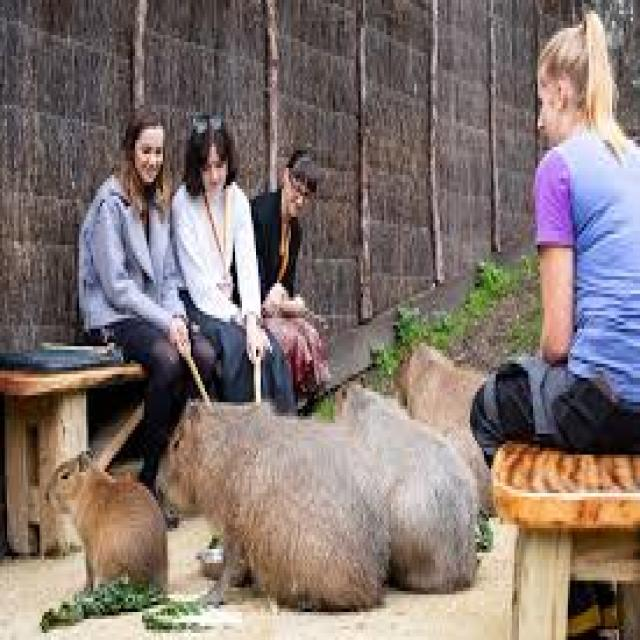capy: (158, 397, 390, 614), (335, 378, 477, 593), (43, 446, 168, 592), (394, 342, 496, 436)
